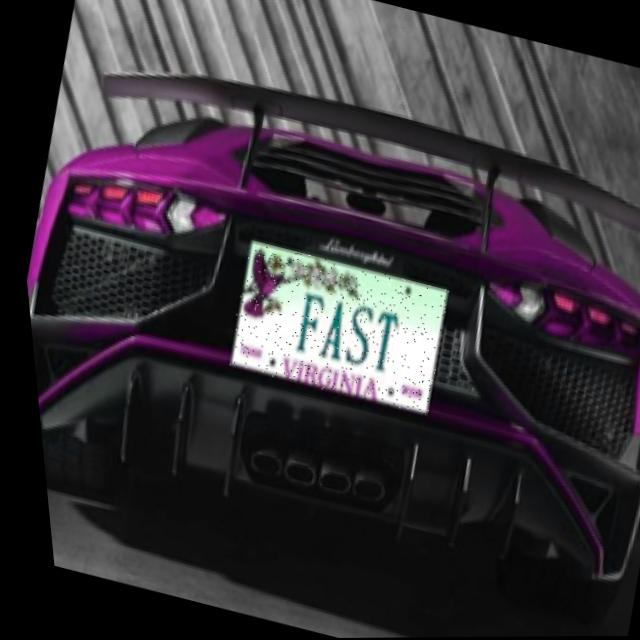license_plate: (210, 239, 452, 418)
